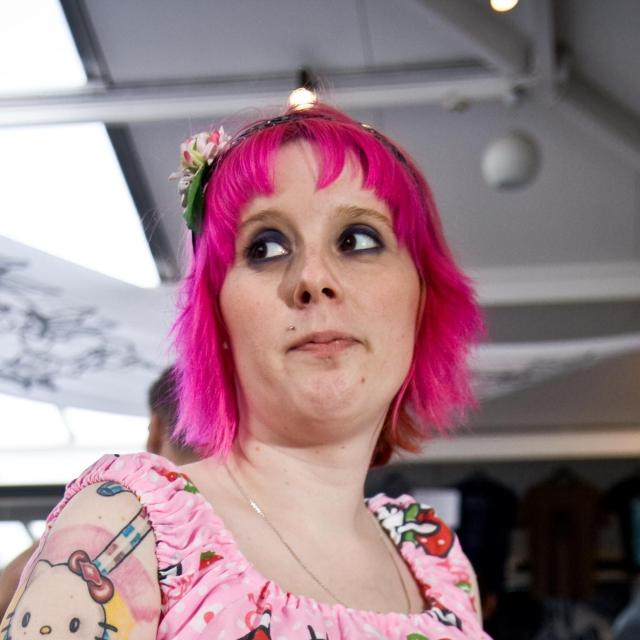no-glass: (244, 224, 379, 266)
